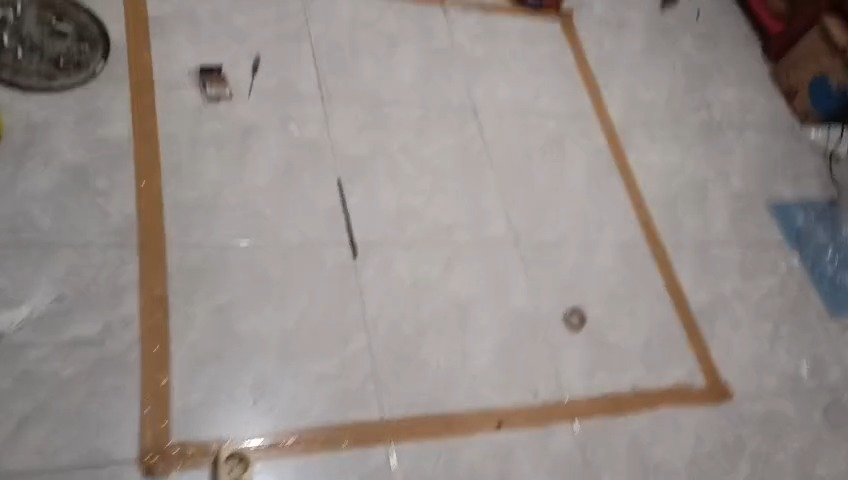floor marking: (124, 0, 732, 475)
